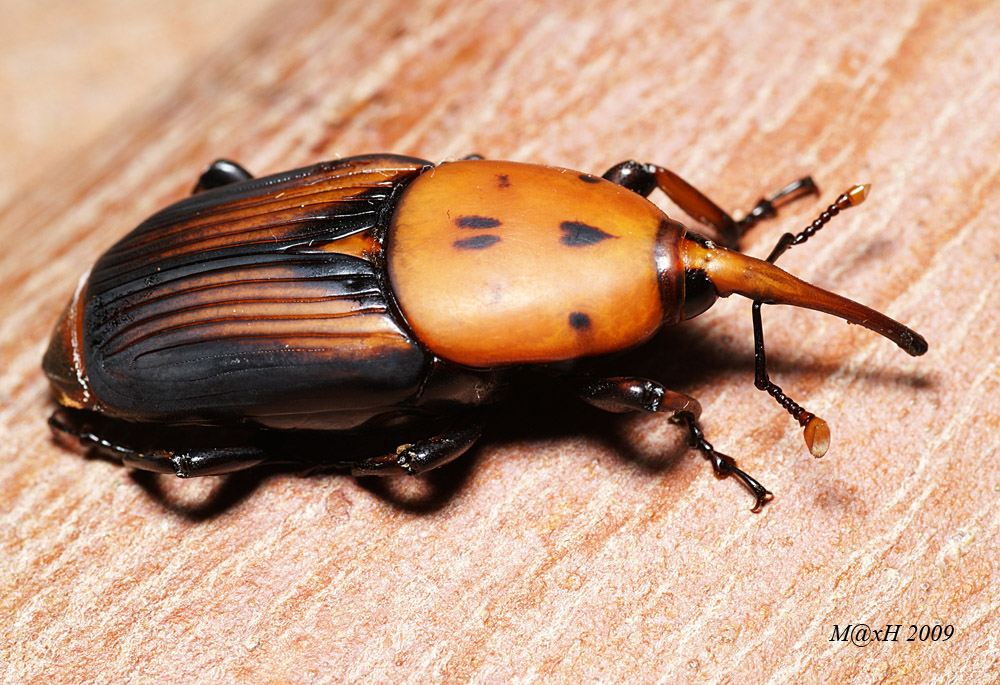dolgonosik: (39, 149, 937, 534)
